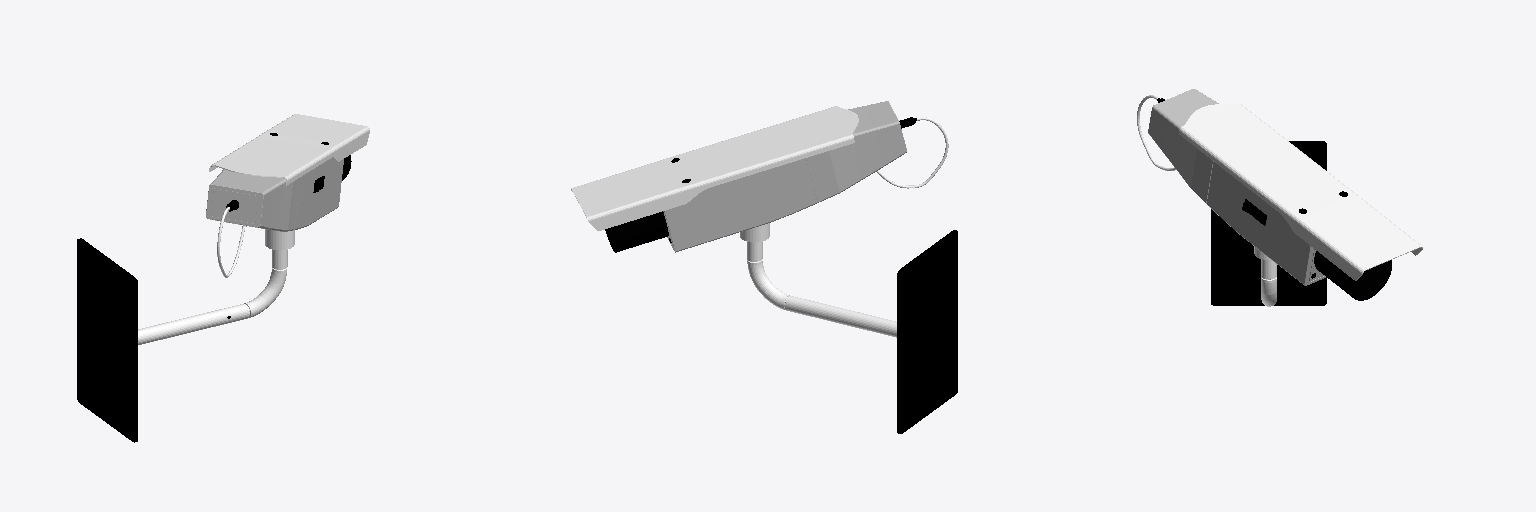
Rendered from camera_left.obj.
3 renders of one model, left to right at view 1: azimuth 30°, elevation 25°; view 2: azimuth 150°, elevation 25°; view 3: azimuth 270°, elevation 25°, orthographic.
Visible parts, largest first — view 1: objWall_Panel, objCam_Body, objTop_Panel, objWall_Attachment; view 2: objTop_Panel, objCam_Body, objWall_Panel, objWall_Attachment, objObjective_Lens; view 3: objTop_Panel, objCam_Body, objWall_Panel, objObjective_Lens, objWall_Attachment.
Boxes of the visible parts, <box> form: objWall_Panel: <box>77,238,137,442</box>; objCam_Body: <box>206,157,343,231</box>; objTop_Panel: <box>209,114,369,185</box>; objWall_Attachment: <box>138,229,294,344</box>; objTop_Panel: <box>571,106,858,230</box>; objCam_Body: <box>663,101,906,252</box>; objWall_Panel: <box>897,230,957,433</box>; objWall_Attachment: <box>740,223,896,337</box>; objObjective_Lens: <box>605,211,668,252</box>; objTop_Panel: <box>1179,103,1422,280</box>; objCam_Body: <box>1148,89,1325,285</box>; objWall_Panel: <box>1211,141,1326,305</box>; objObjective_Lens: <box>1314,251,1391,300</box>; objWall_Attachment: <box>1254,246,1276,306</box>.
Bounding box in the file's own units: 1432 × 1097 × 1143.